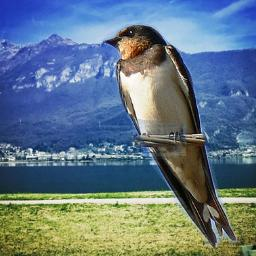Swallow: (101, 23, 237, 248)
